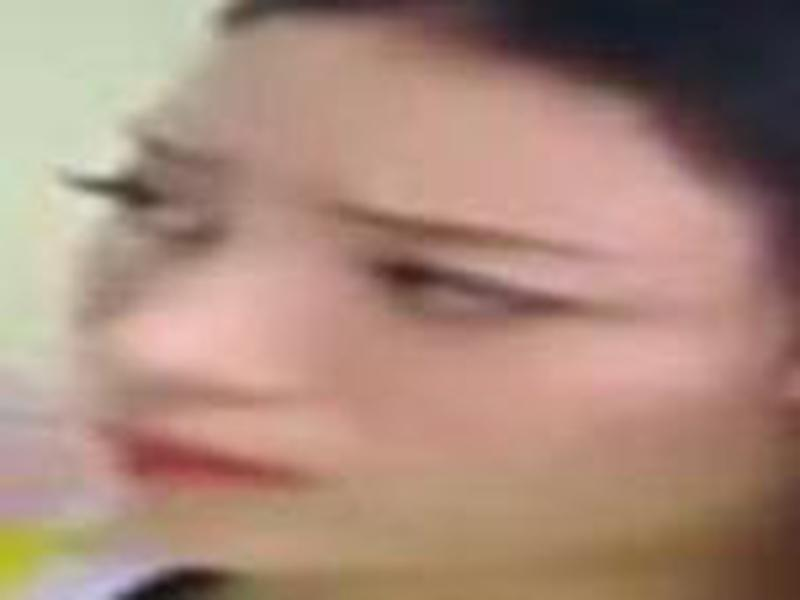without_mask: (46, 23, 725, 600)
